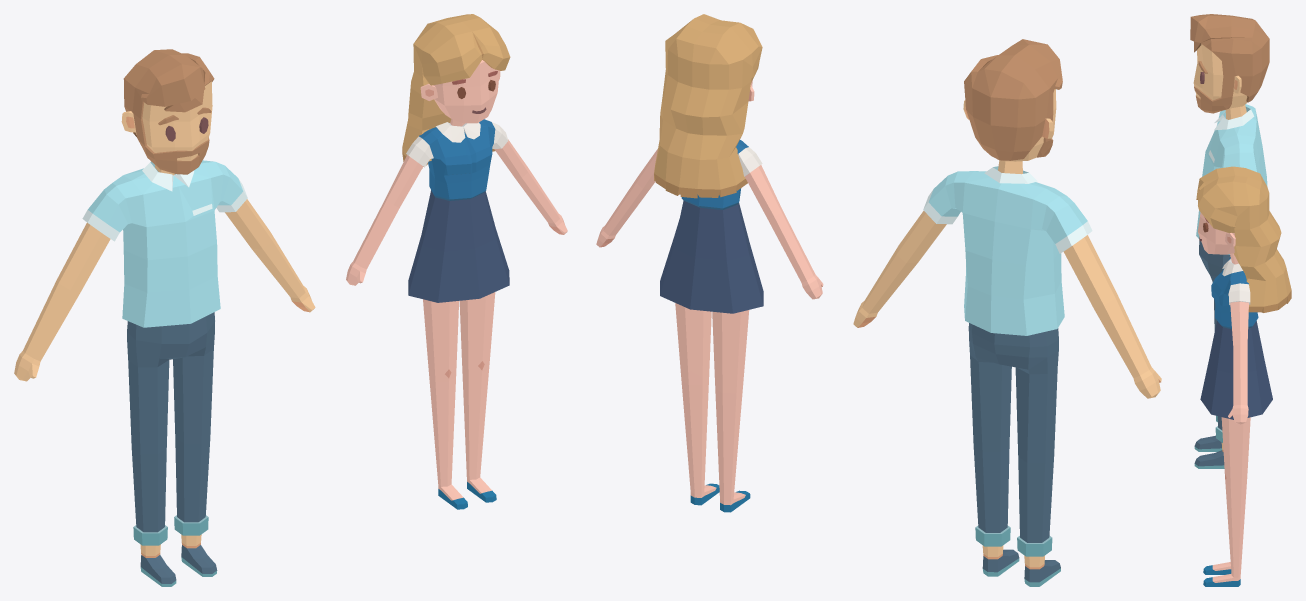
File: low_poly_flat_color_characters_mf.glb
The picture shows the model from 3 angles, left to right: view 1: azimuth 30°, elevation 25°; view 2: azimuth 150°, elevation 25°; view 3: azimuth 270°, elevation 25°; orthographic projection. The views are drawn at different scales.
Parts seen in each view (by area): view 1: body_2, body.001_1, hair_0; view 2: body_2, body.001_1, hair_0; view 3: body.001_1, body_2, hair_0.
Part boxes in pixels (x1,y1,x2,y2): body_2: [14, 49, 315, 586]; body.001_1: [346, 60, 567, 509]; hair_0: [402, 14, 510, 168]; body_2: [853, 39, 1161, 586]; body.001_1: [596, 80, 823, 512]; hair_0: [654, 14, 762, 198]; body.001_1: [1197, 212, 1272, 586]; body_2: [1190, 14, 1269, 468]; hair_0: [1196, 166, 1291, 312].
Bounding box in the file's own units: 5.08 × 4.54 × 0.9442.
1 material, 1 textured.
